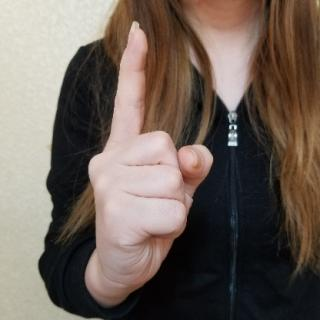RAA: (82, 17, 218, 293)
